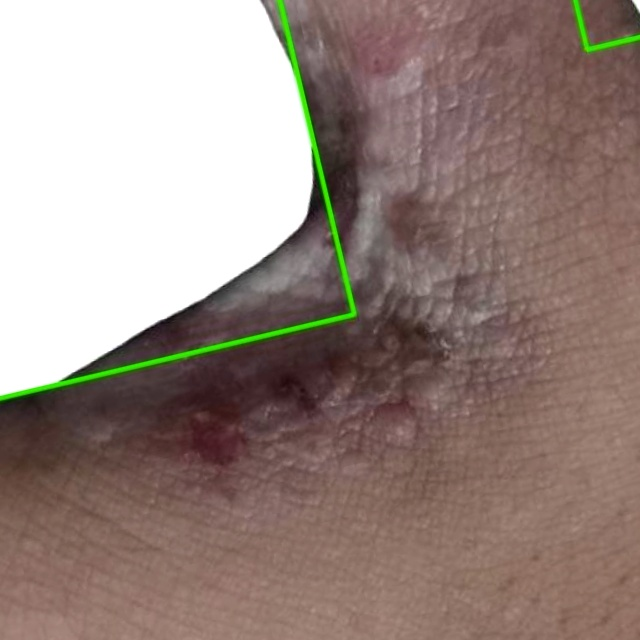Scabies: (0, 0, 354, 398)
